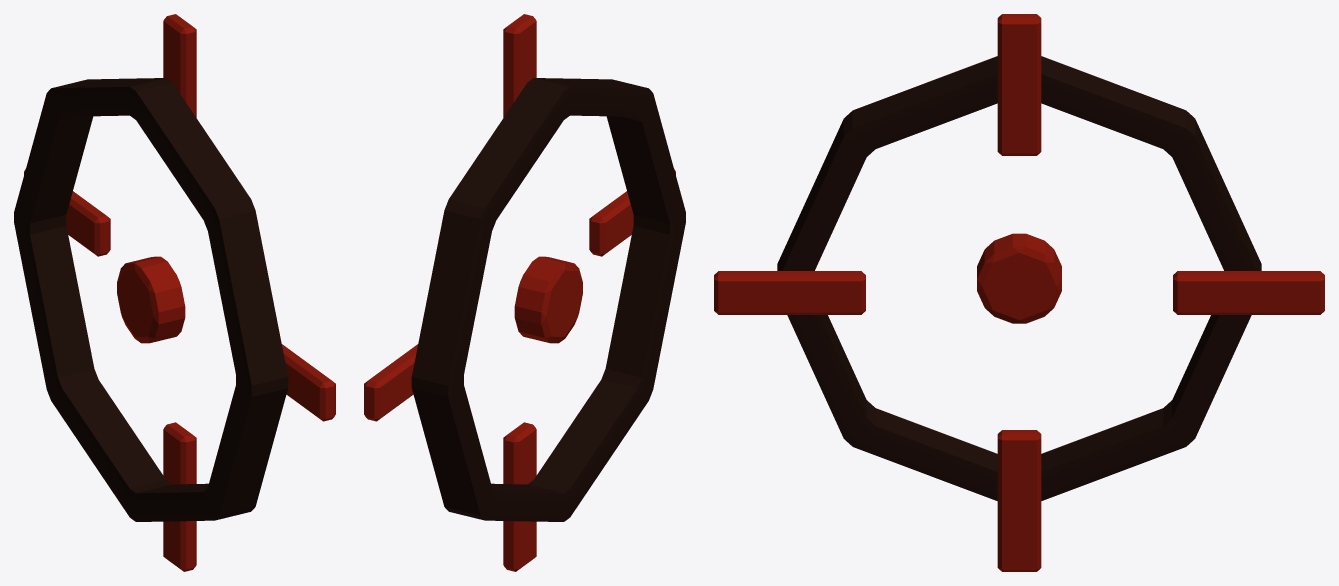
The model's file is Crosshair.glb.
The picture shows the model from 3 angles, left to right: view 1: azimuth 30°, elevation 25°; view 2: azimuth 150°, elevation 25°; view 3: azimuth 270°, elevation 25°; orthographic projection.
Visible parts, largest first — view 1: Cube.001; view 2: Cube.001; view 3: Cube.001.
Part boxes in pixels (<box>): Cube.001: <box>14,14,335,571</box>; Cube.001: <box>364,14,685,571</box>; Cube.001: <box>714,14,1324,571</box>.
Bounding box in the file's own units: 0.4283 × 3.99 × 3.99.
